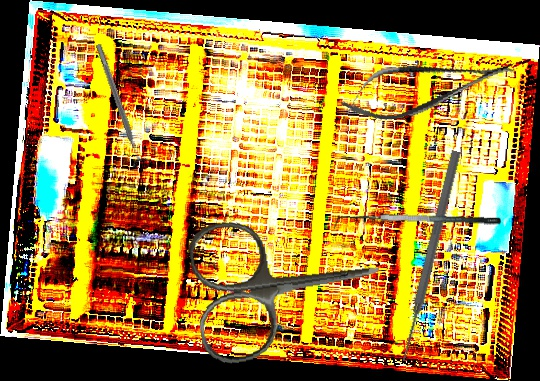Fixation Ring: (89, 40, 152, 170)
Iris Scissors: (186, 201, 389, 368)
Micro Scissor: (335, 43, 522, 131)
Pusher: (397, 149, 463, 363)
Spatula Surgical: (332, 207, 502, 239)
